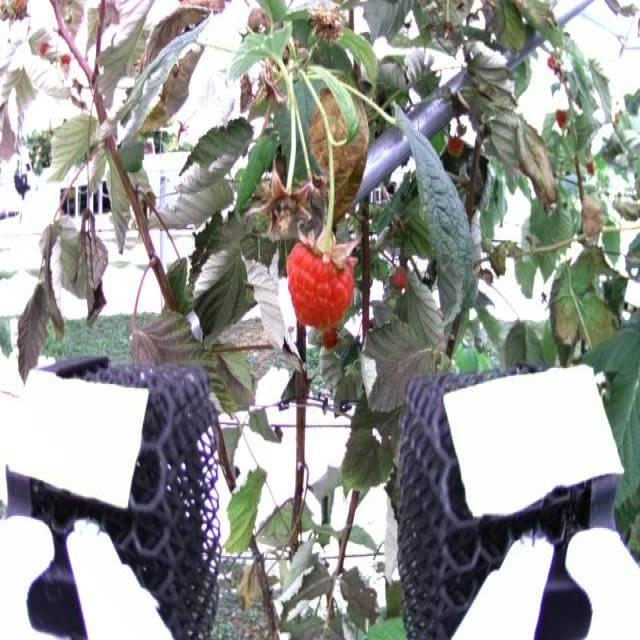Riped berries: (282, 232, 359, 332)
